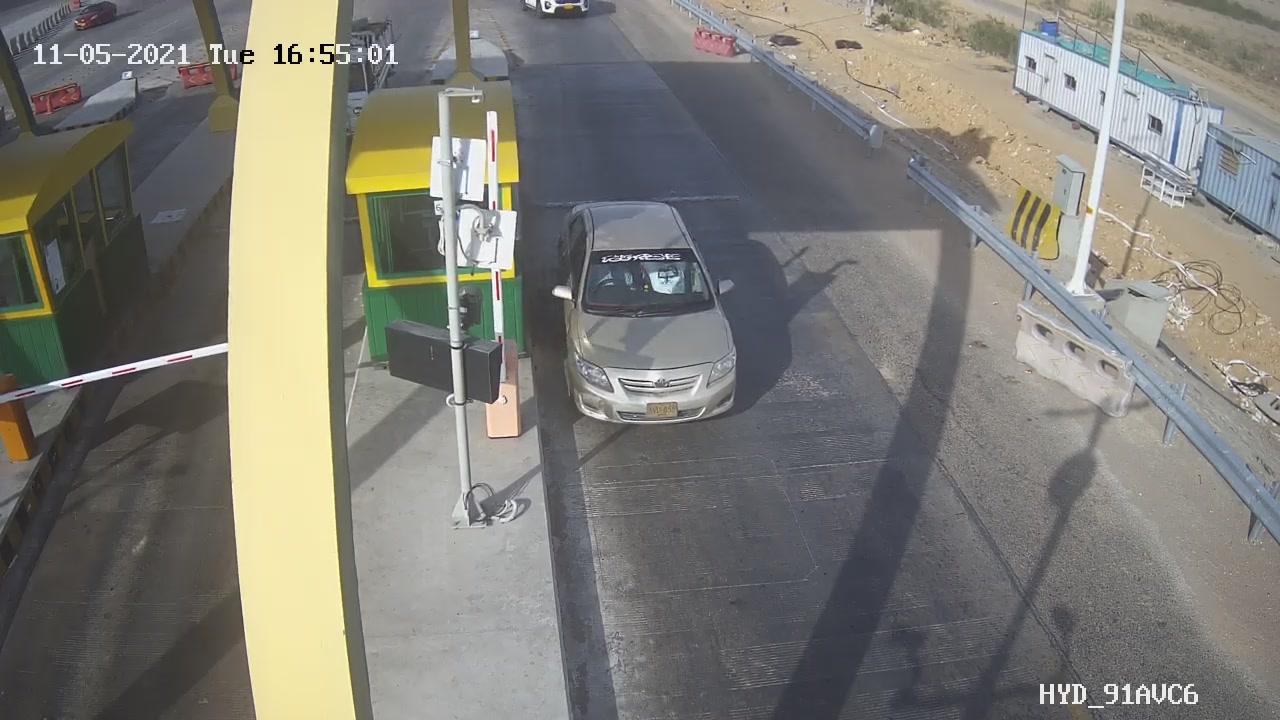F1: (533, 186, 761, 444)
